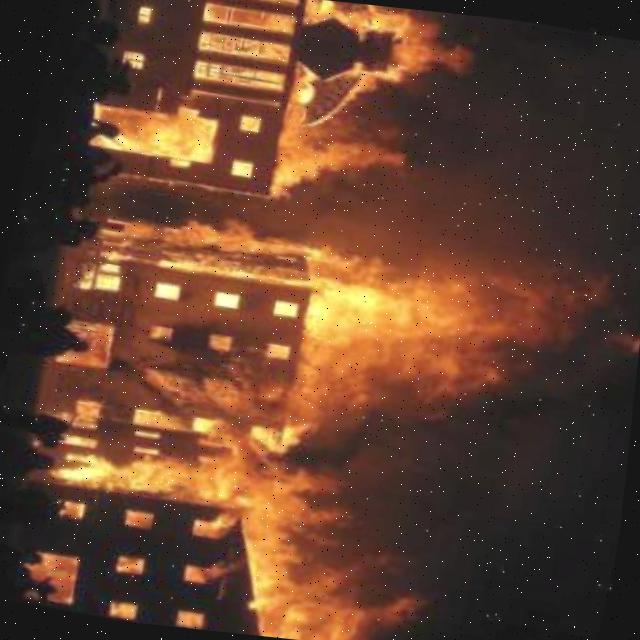fire: (64, 195, 631, 522), (23, 433, 457, 640), (257, 83, 417, 233), (273, 0, 480, 113), (181, 0, 292, 102), (115, 95, 225, 173)
